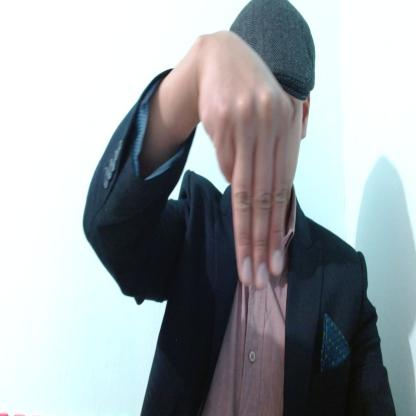M: (199, 31, 295, 290)
